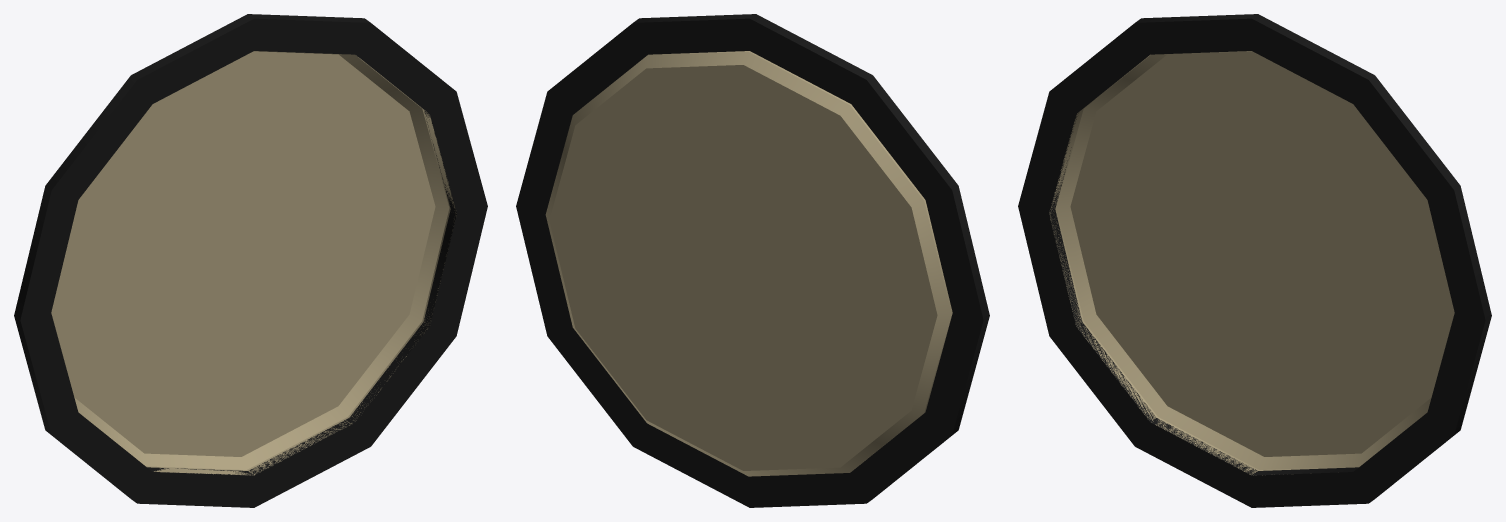
File: pod4_seal.obj
3 views of the same model, side by side, from view 1: azimuth 30°, elevation 25°; view 2: azimuth 150°, elevation 25°; view 3: azimuth 330°, elevation 25° (orthographic).
Parts seen in each view (by area): view 1: pod4_seal; view 2: pod4_seal; view 3: pod4_seal.
Boxes of the visible parts, x1,y1,x2,y2 form: pod4_seal: [14, 14, 487, 507]; pod4_seal: [516, 14, 989, 507]; pod4_seal: [1018, 14, 1491, 507].
Bounding box in the file's own units: 1.06 × 1.06 × 0.05.
